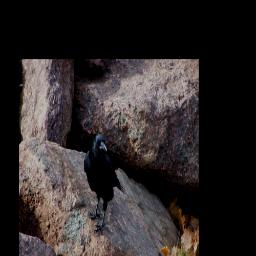Crow: (83, 129, 129, 237)
